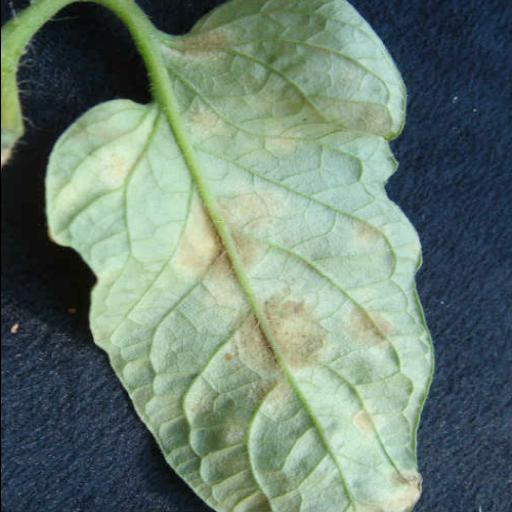Leaf Mold: (44, 0, 432, 512)
